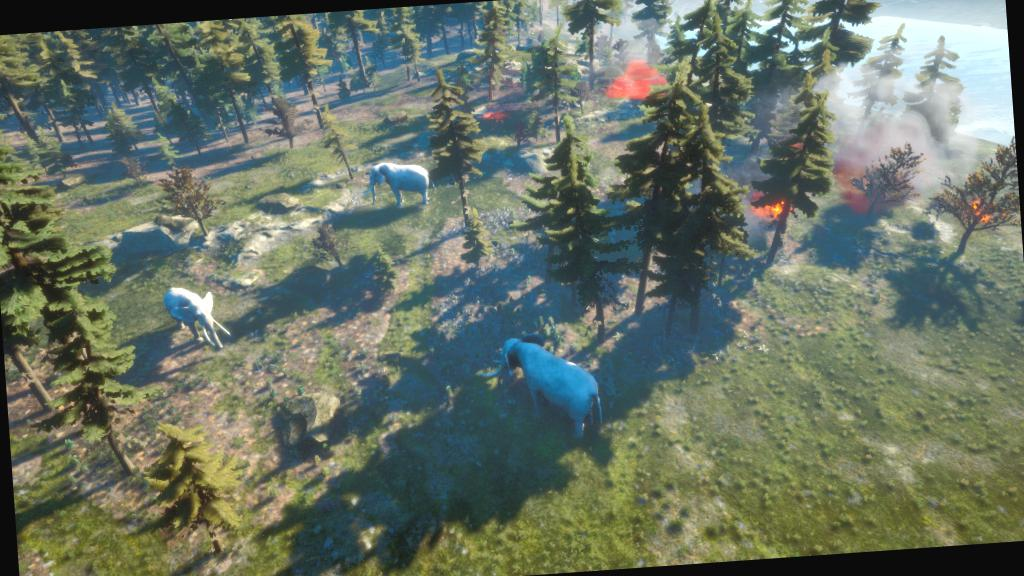Fire: (608, 54, 672, 108), (746, 184, 802, 228), (962, 192, 1004, 234), (480, 106, 512, 124)
elephant: (468, 320, 616, 452), (154, 274, 246, 363), (355, 154, 449, 222)
smoke: (764, 42, 988, 221)
